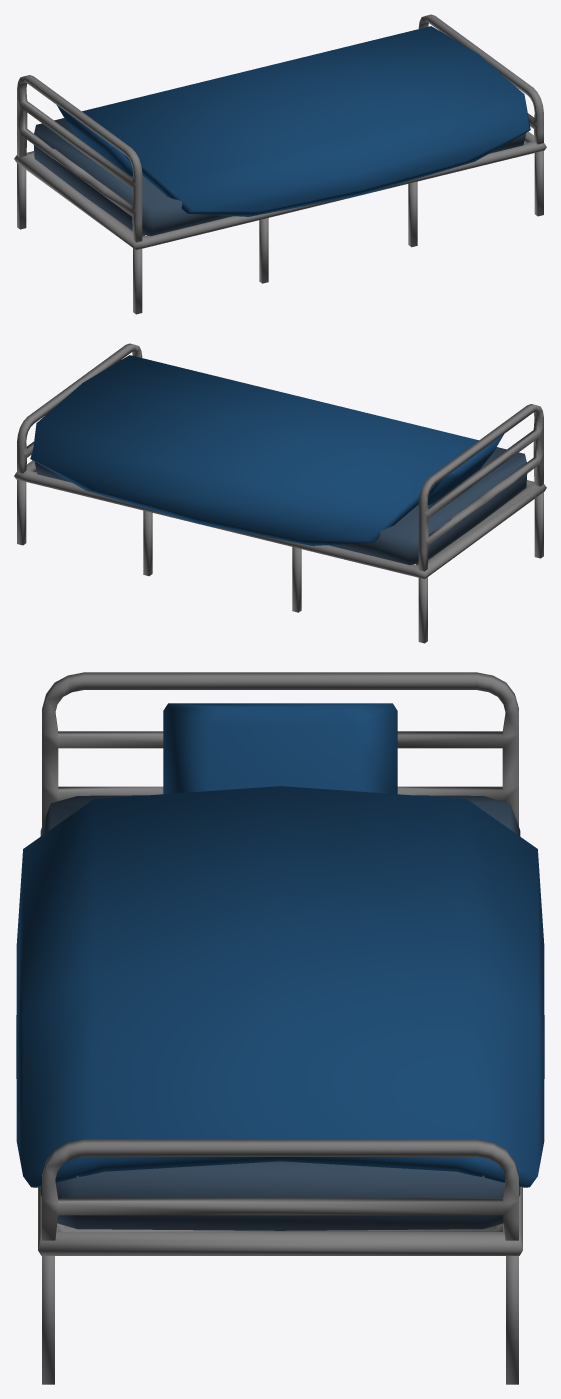
The model's file is PROJECT DREAM - Bedroom - Bed.fbx.
3 renders of one model, top to bottom at view 1: azimuth 30°, elevation 25°; view 2: azimuth 150°, elevation 25°; view 3: azimuth 270°, elevation 25°, orthographic. The views are drawn at different scales.
Visible parts, largest first — view 1: Bedroom - Bed; view 2: Bedroom - Bed; view 3: Bedroom - Bed.
Boxes of the visible parts, box(x1,y1,x2,y2) form: Bedroom - Bed: box(14, 14, 546, 314); Bedroom - Bed: box(14, 343, 546, 643); Bedroom - Bed: box(16, 672, 544, 1384).
Bounding box in the file's own units: 376 × 137 × 209.
